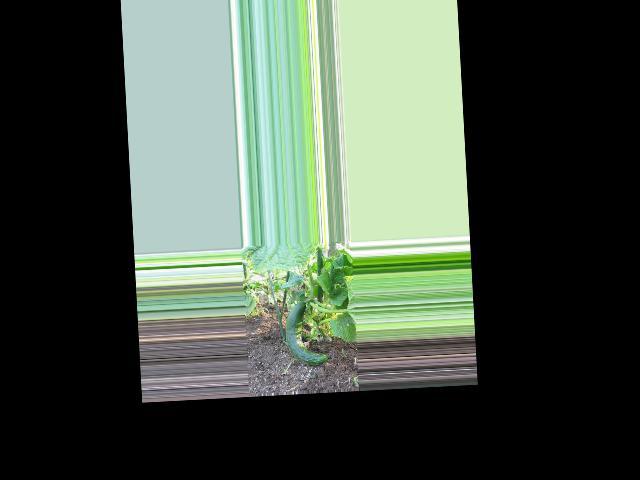cucumber: (283, 299, 328, 367)
